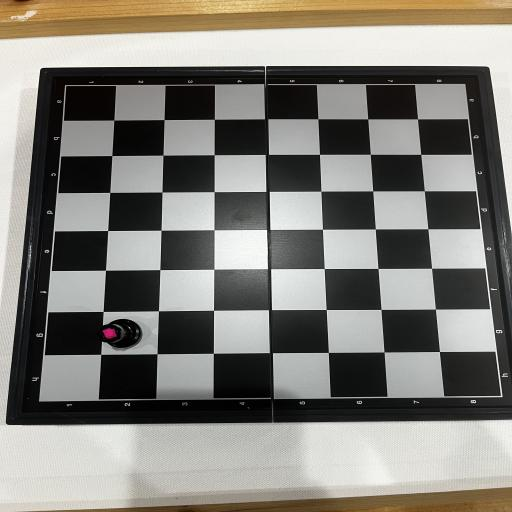Black rook: (97, 319, 142, 349)
